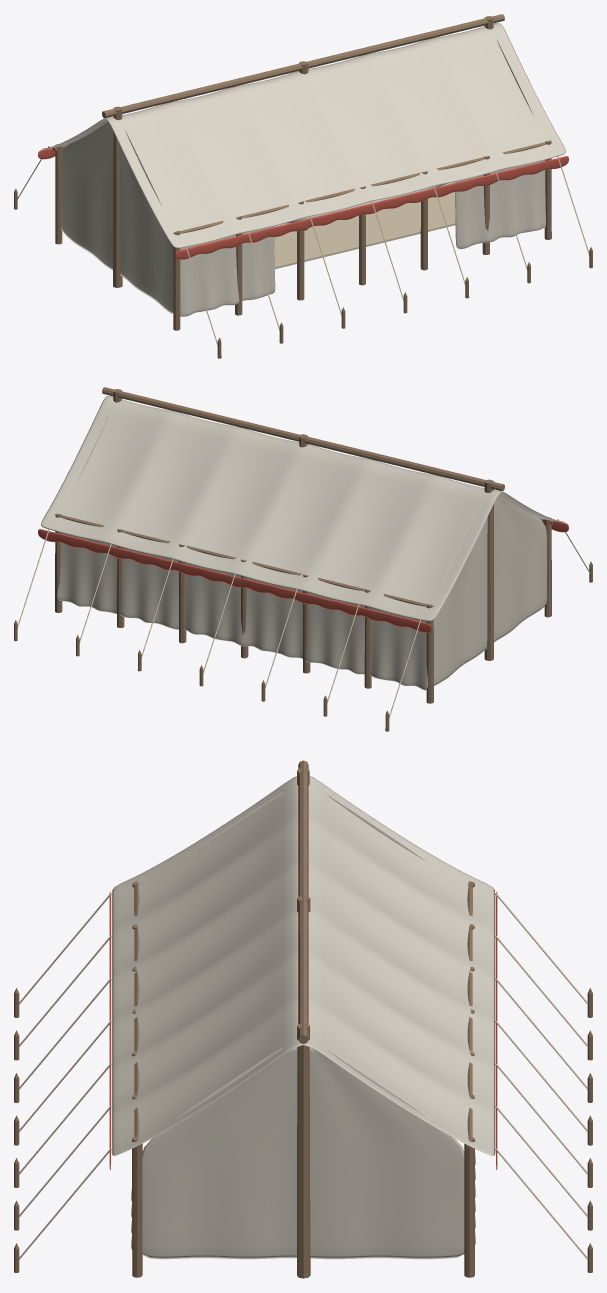
File: C02_营房长帐.fbx
3 views of the same model, one above another, from view 1: azimuth 30°, elevation 25°; view 2: azimuth 150°, elevation 25°; view 3: azimuth 270°, elevation 25° (orthographic). The views are drawn at different scales.
Parts seen in each view (by area): view 1: C02_帐顶, C02_山墙, C02_围帐, C02_草席, C02_檐柱, C02_垂幔, C02_脊杆, C02_脊柱, C02_拉绳, C02_檐杆, C02_地桩; view 2: C02_帐顶, C02_围帐, C02_山墙, C02_垂幔, C02_檐柱, C02_脊杆, C02_脊柱, C02_拉绳, C02_檐杆, C02_地桩; view 3: C02_帐顶, C02_山墙, C02_拉绳, C02_脊柱, C02_檐柱, C02_脊杆, C02_地桩, C02_檐杆, C02_垂幔.
Boxes of the visible parts, <box> form: C02_帐顶: <box>41,23,565,248</box>; C02_山墙: <box>61,38,535,313</box>; C02_围帐: <box>180,160,545,316</box>; C02_草席: <box>274,181,455,269</box>; C02_檐柱: <box>55,140,551,330</box>; C02_垂幔: <box>38,148,568,259</box>; C02_脊杆: <box>102,14,504,118</box>; C02_脊柱: <box>113,16,493,287</box>; C02_拉绳: <box>16,145,589,345</box>; C02_檐杆: <box>53,142,546,234</box>; C02_地桩: <box>14,188,592,358</box>; C02_帐顶: <box>41,396,565,621</box>; C02_围帐: <box>57,533,427,690</box>; C02_山墙: <box>72,411,546,685</box>; C02_垂幔: <box>38,521,568,632</box>; C02_檐柱: <box>55,513,551,703</box>; C02_脊杆: <box>102,387,504,491</box>; C02_脊柱: <box>113,389,493,660</box>; C02_拉绳: <box>17,518,590,718</box>; C02_檐杆: <box>60,515,553,607</box>; C02_地桩: <box>14,561,592,731</box>; C02_帐顶: <box>111,776,495,1155</box>; C02_山墙: <box>142,792,464,1259</box>; C02_拉绳: <box>18,893,588,1259</box>; C02_脊柱: <box>297,768,310,1278</box>; C02_檐柱: <box>132,881,474,1277</box>; C02_脊杆: <box>298,760,308,1043</box>; C02_地桩: <box>14,988,592,1272</box>; C02_檐杆: <box>134,881,472,1148</box>; C02_垂幔: <box>109,891,497,1169</box>.
Bounding box in the file's own units: 860 × 366 × 767.
